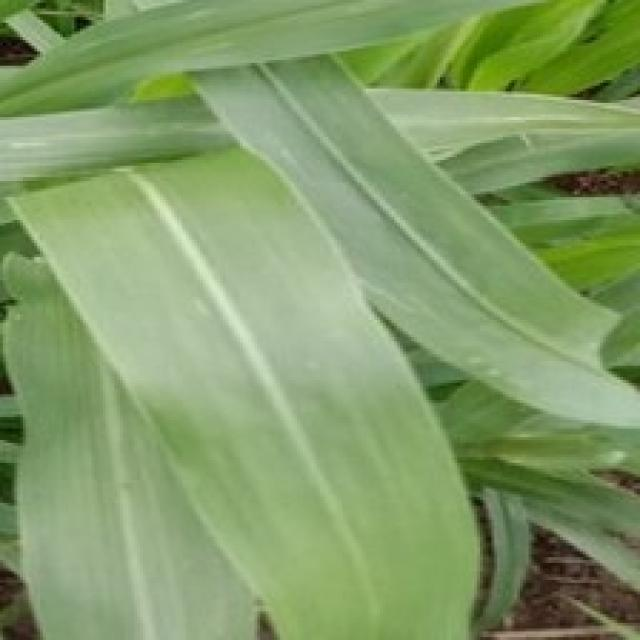Corn: (0, 0, 637, 637), (0, 0, 637, 117)
